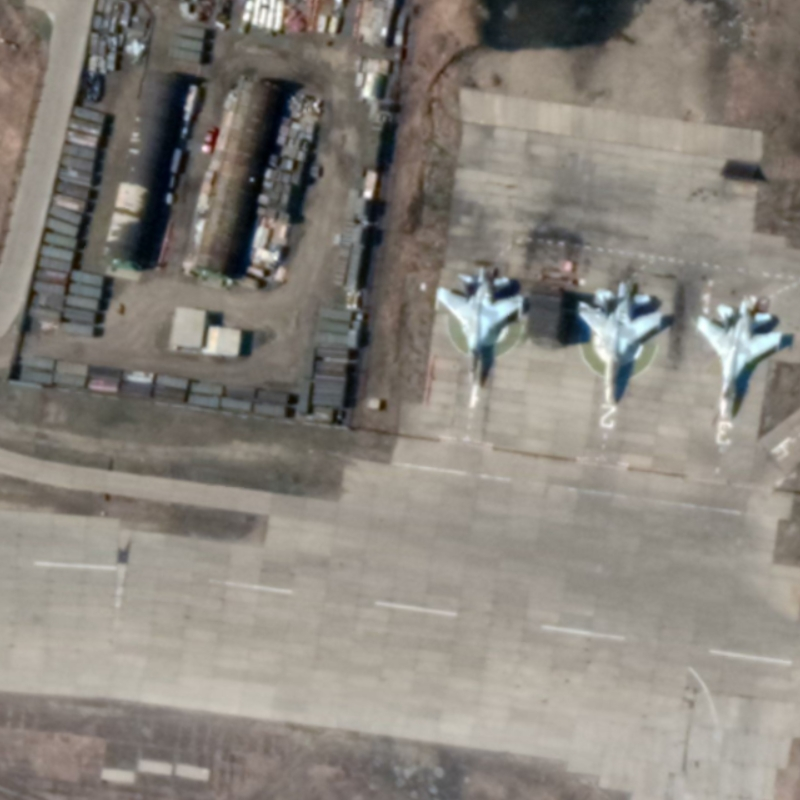A1: (433, 263, 527, 393), (574, 278, 666, 410), (694, 294, 785, 421)
